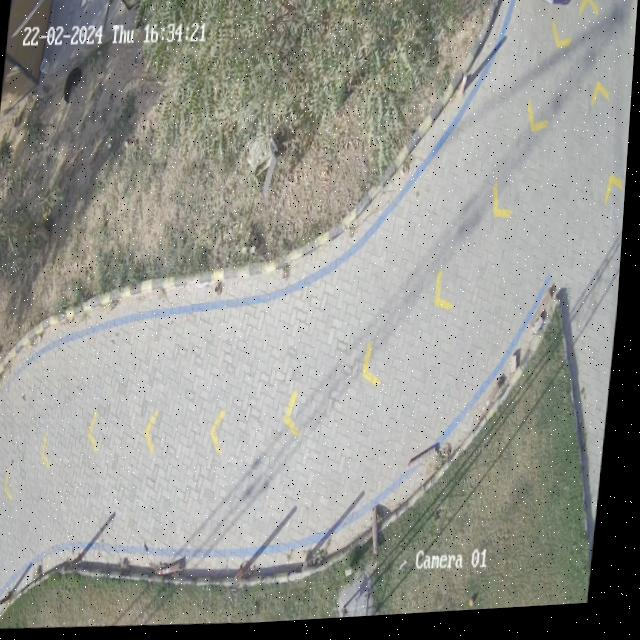car: (533, 0, 574, 11)
